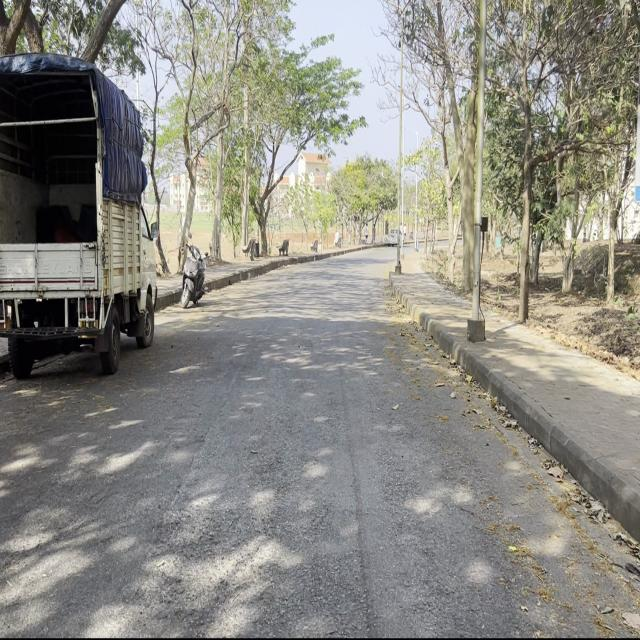Object: (4, 54, 159, 370), (174, 234, 210, 338)
Road: (0, 249, 634, 629)
